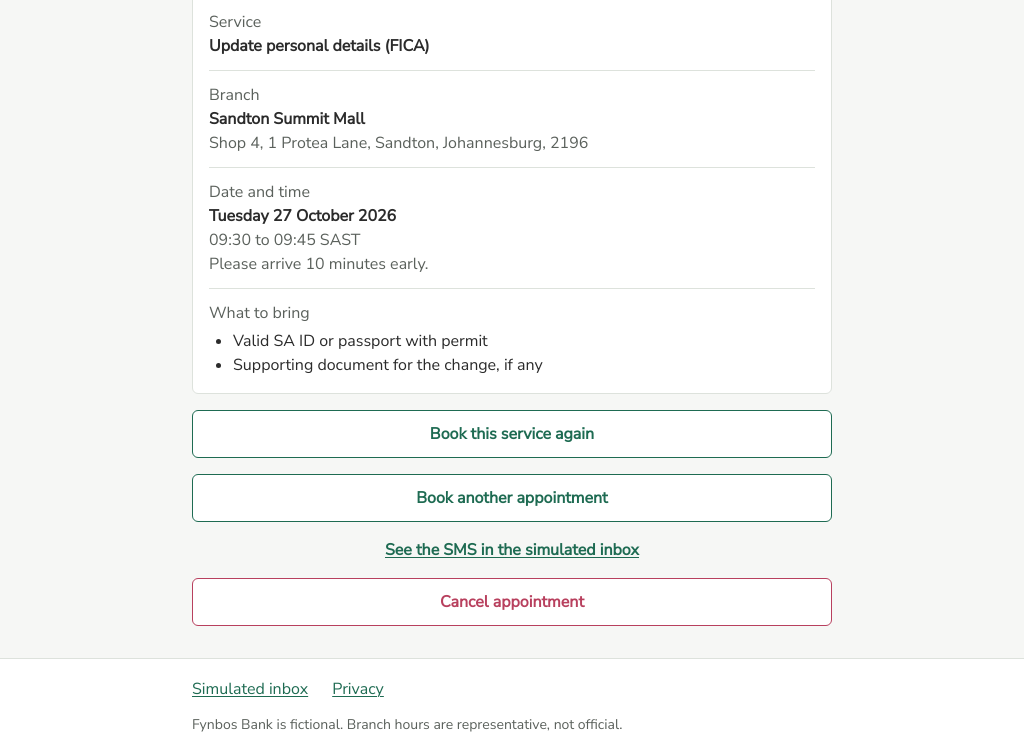
Scenario: ConfirmationPage, cancelling › keeps the appointment on Escape, and gives focus back to the button
(page scrolled)
Click the button "Cancel appointment": (512, 602) [192, 578, 832, 626]
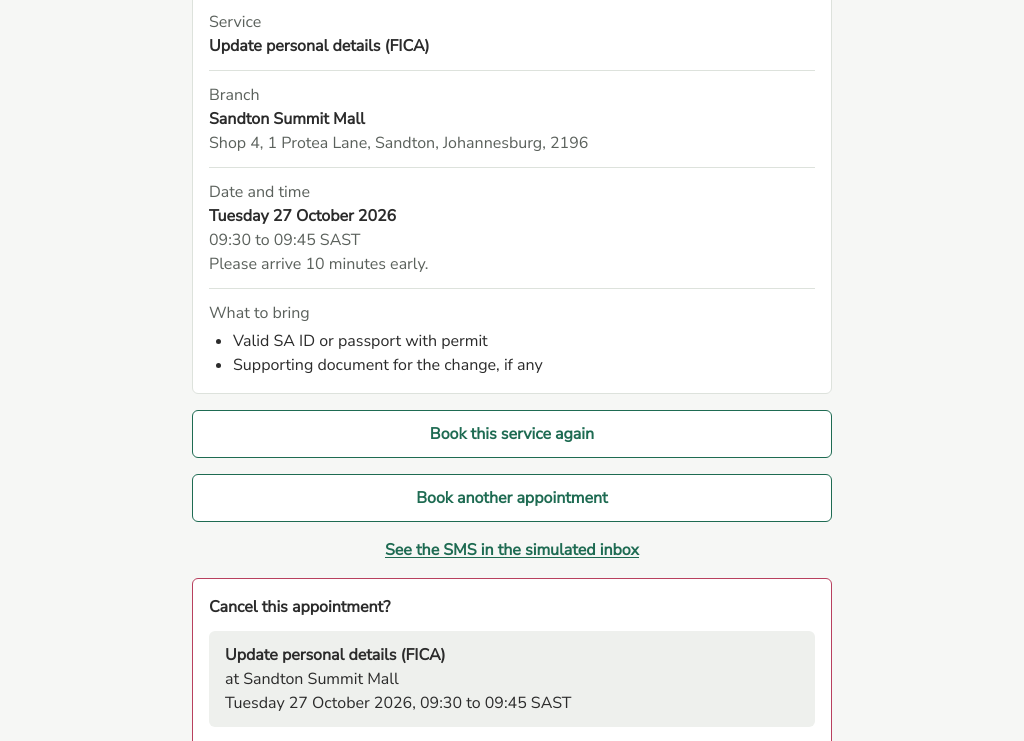
Press Tab
(page scrolled)
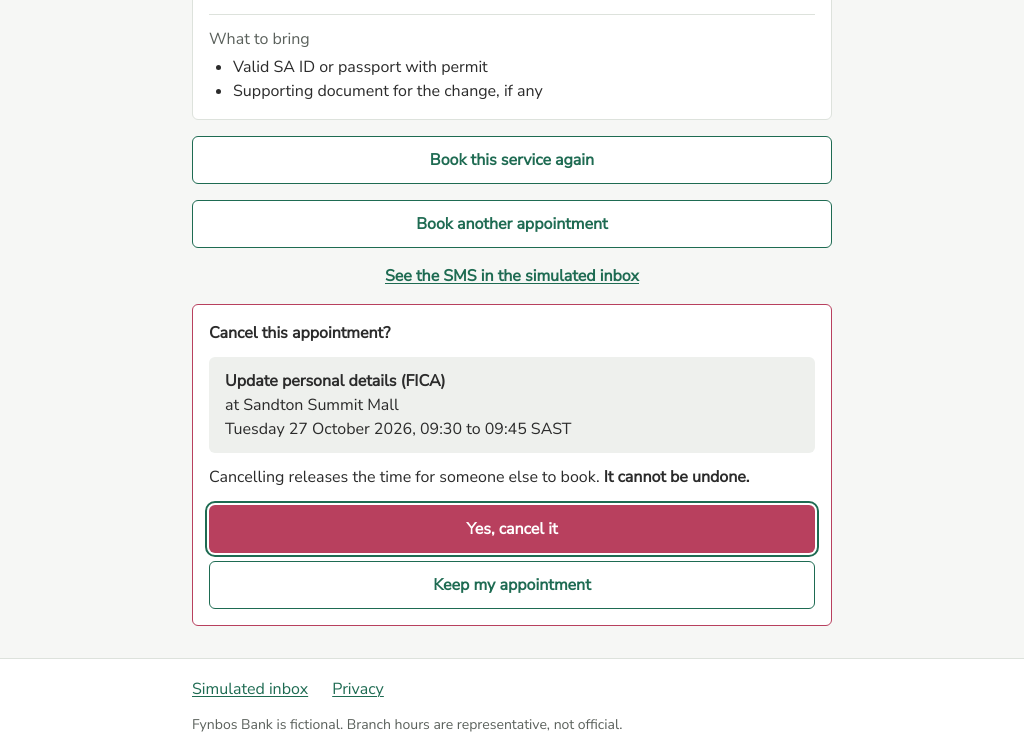
Press Escape
(page scrolled)
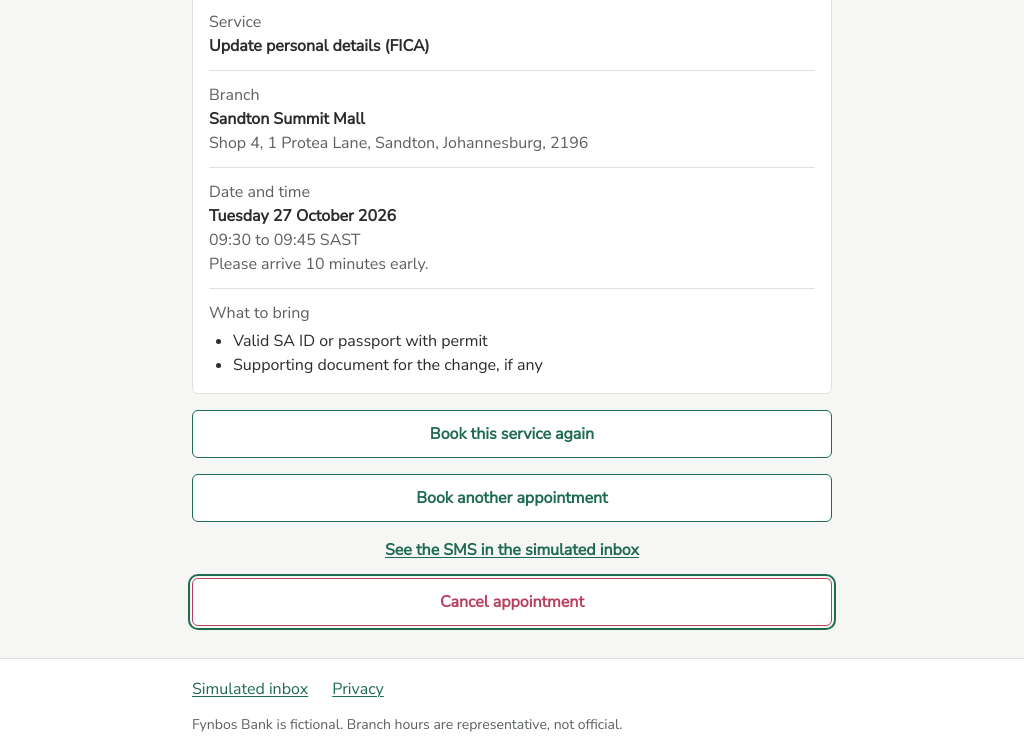
Check: the heading "Cancel this appointment?" is gone
